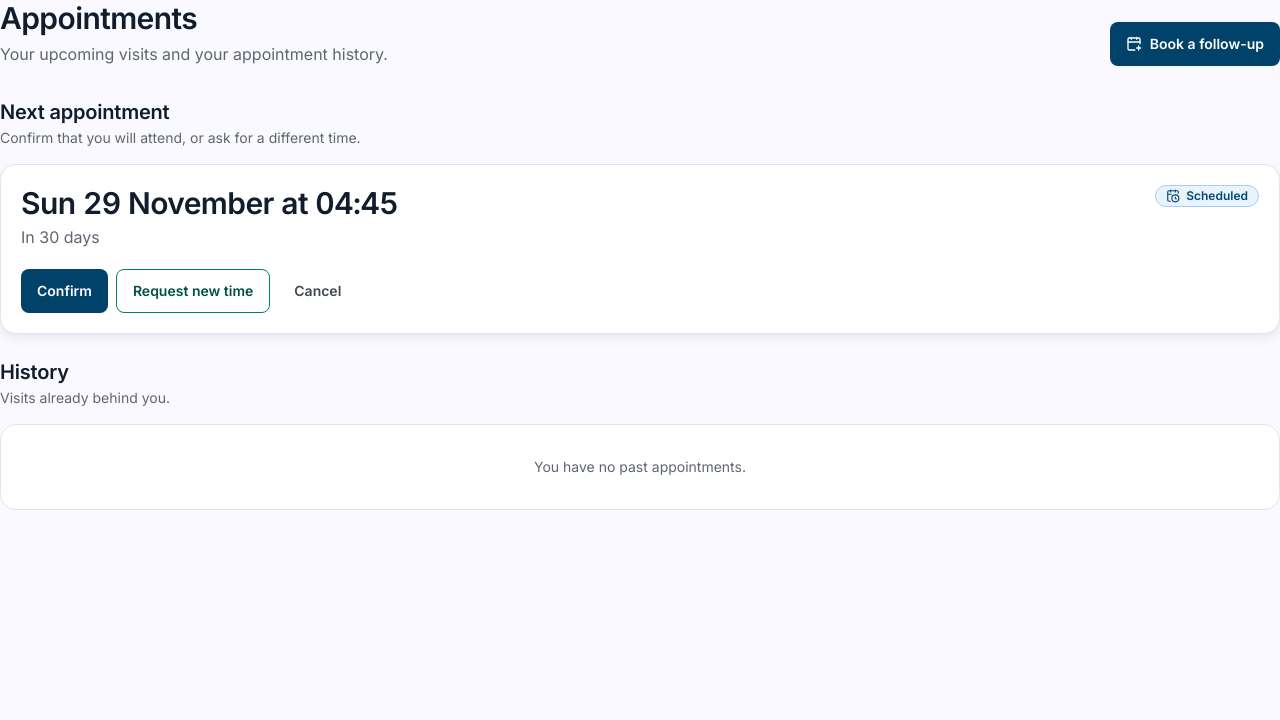
Test: patient cancelling an appointment › changes nothing when the patient keeps the appointment
The width and height of the screenshot is (1280, 720).
Click the button "Cancel": (318, 291) [278, 269, 357, 313]
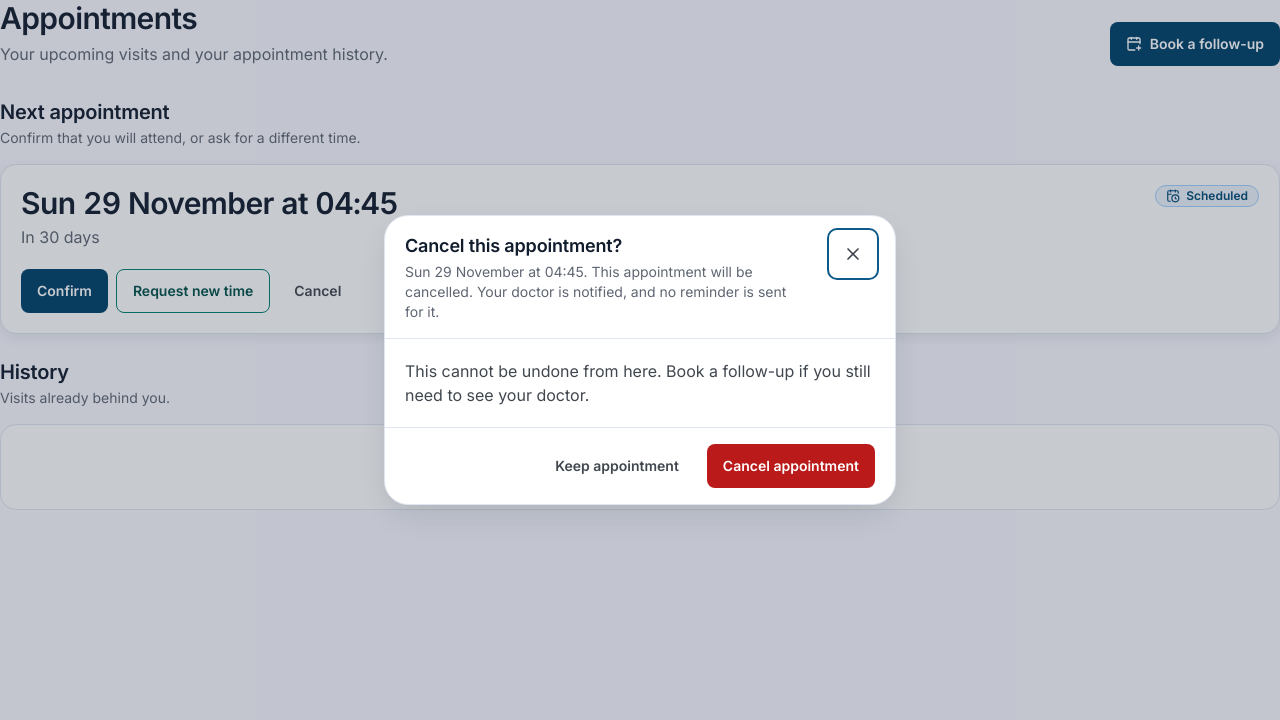
Click the button "Keep appointment": (617, 466) [539, 444, 695, 488]
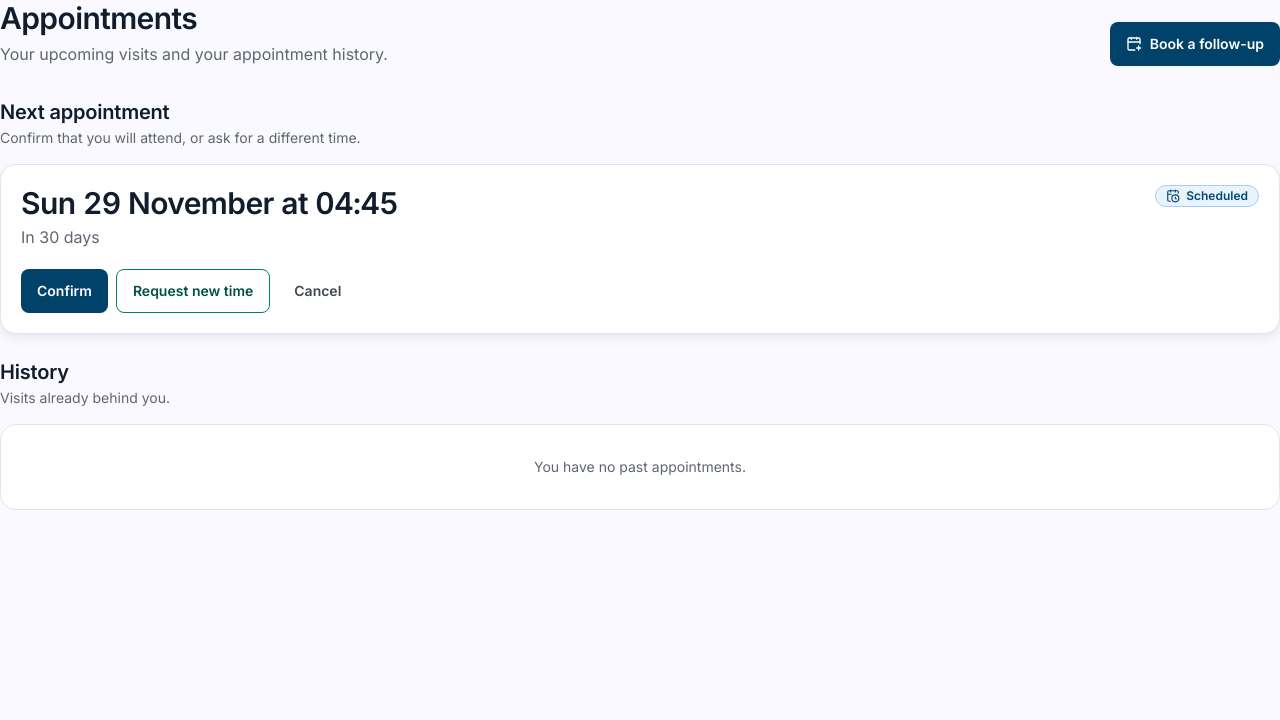
expect the heading "Cancel this appointment?" is gone: met
